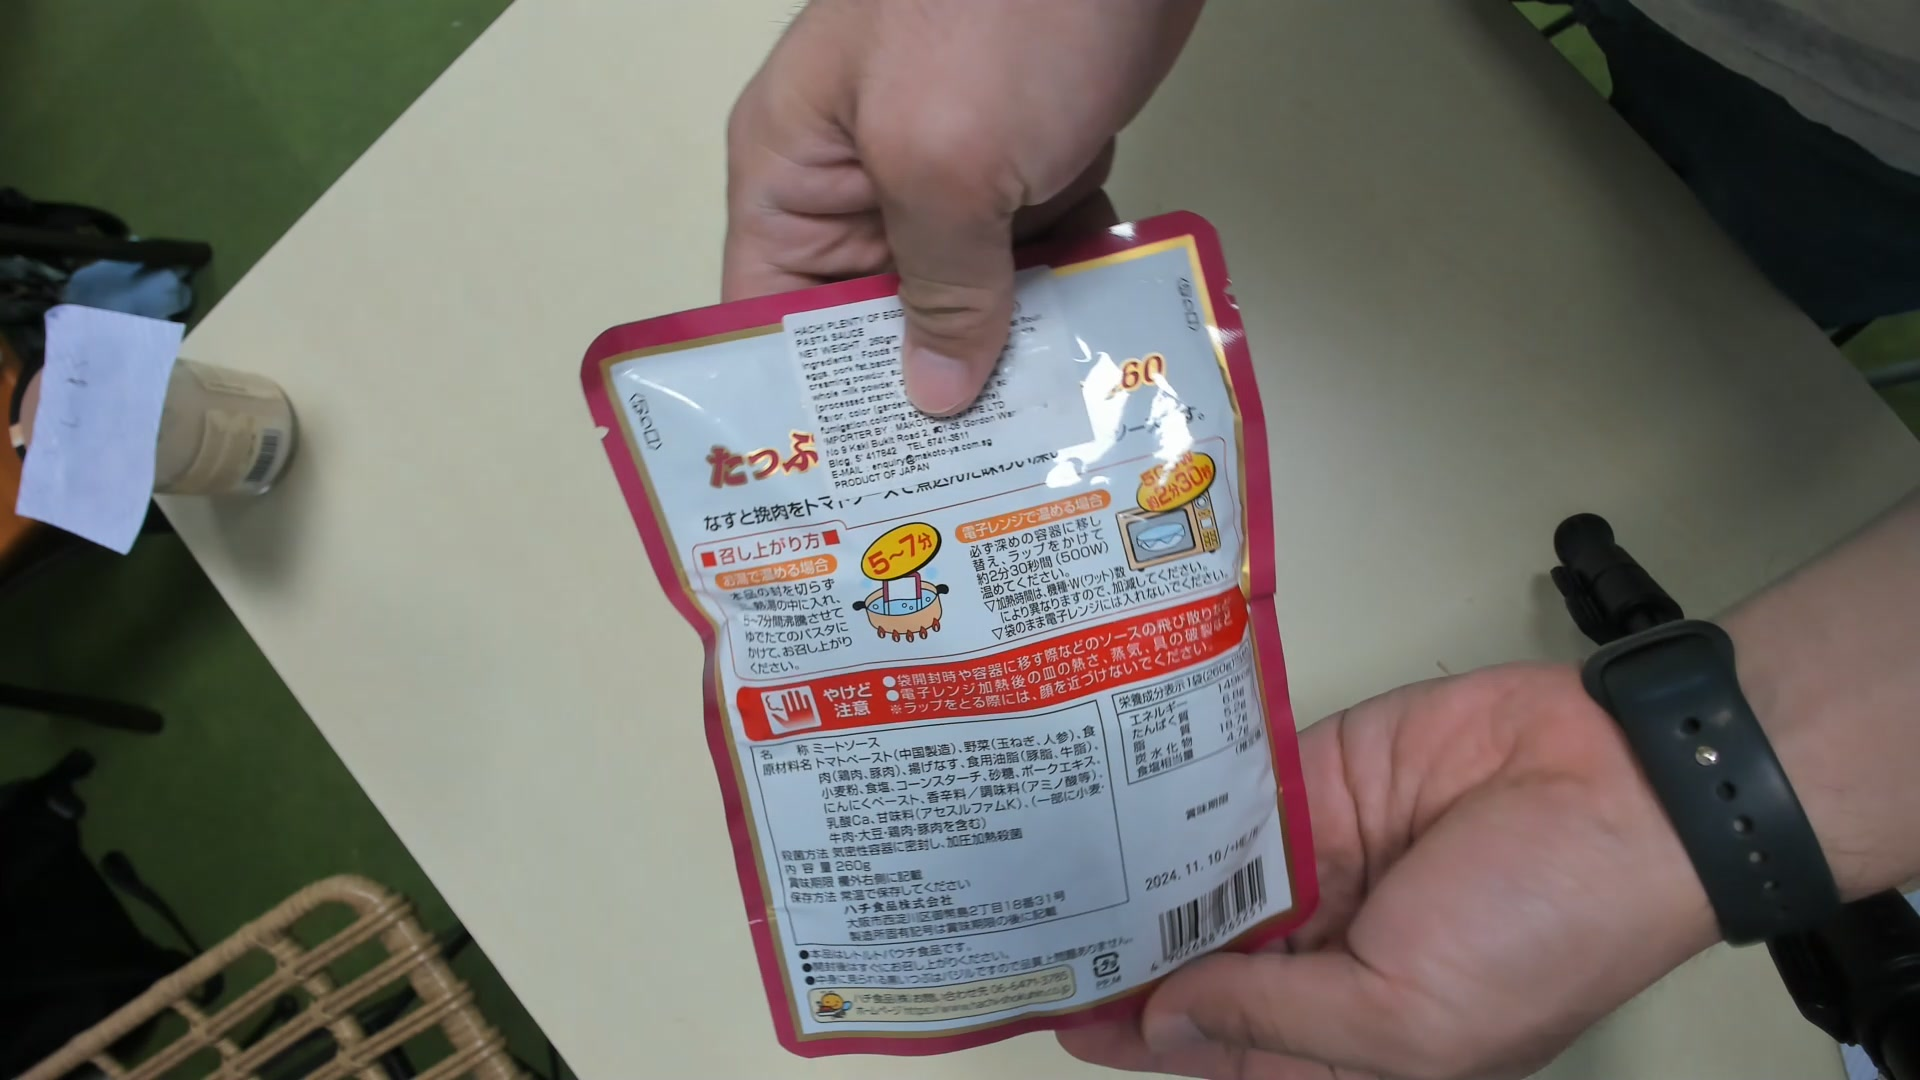PastaSauce_200-299g_NonHalal_NonHealthy: (613, 243, 1311, 1058)
